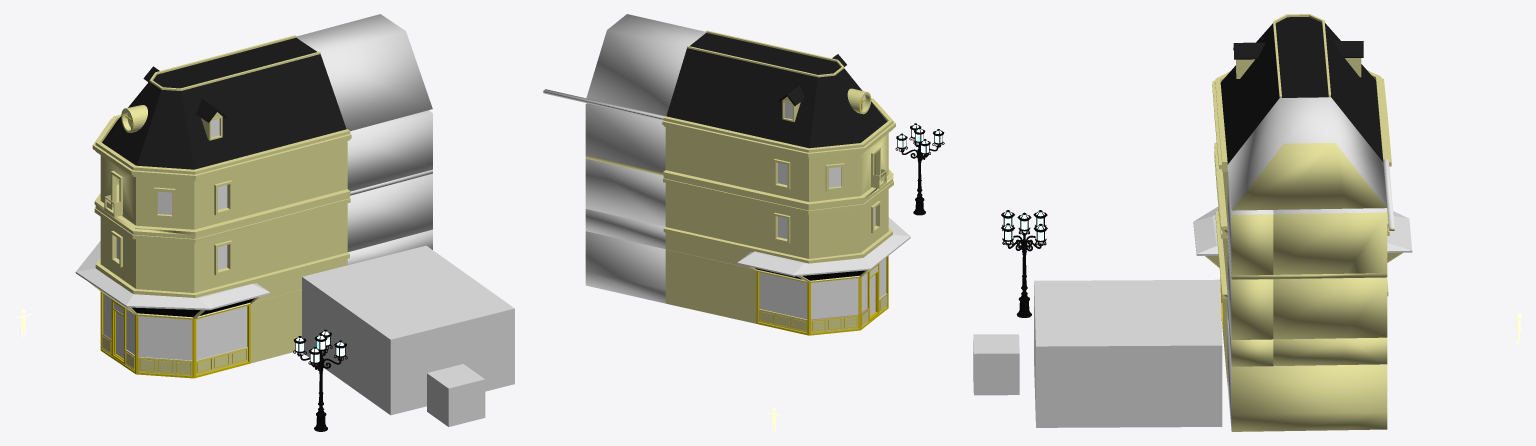
The model's file is ville(brouillon boulangerie).glb.
The picture shows the model from 3 angles, left to right: view 1: azimuth 30°, elevation 25°; view 2: azimuth 150°, elevation 25°; view 3: azimuth 270°, elevation 25°; orthographic projection. The views are drawn at different scales.
Visible parts, largest first — view 1: BOULANGERIE, Cube, pied; view 2: BOULANGERIE, pied; view 3: BOULANGERIE, Cube, pied.
Boxes of the visible parts, x1,y1,x2,y2 form: BOULANGERIE: [75, 14, 432, 378]; Cube: [302, 245, 514, 426]; pied: [293, 329, 347, 431]; BOULANGERIE: [543, 14, 910, 335]; pied: [895, 123, 944, 215]; BOULANGERIE: [1193, 14, 1412, 431]; Cube: [973, 279, 1222, 427]; pied: [1001, 210, 1047, 317].
Size of what is drawn, in the model's own units: 23.87 by 21.29 by 30.76.
Materials: 12 (2 with a texture image).
